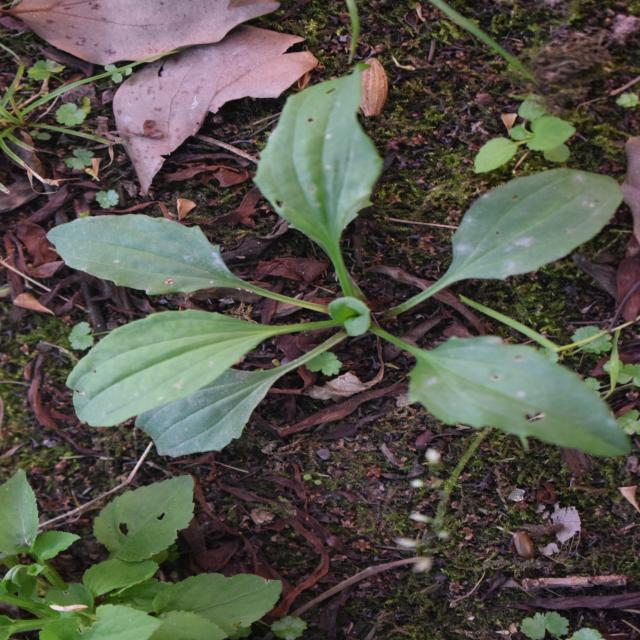plantain: (182, 61, 545, 577)
